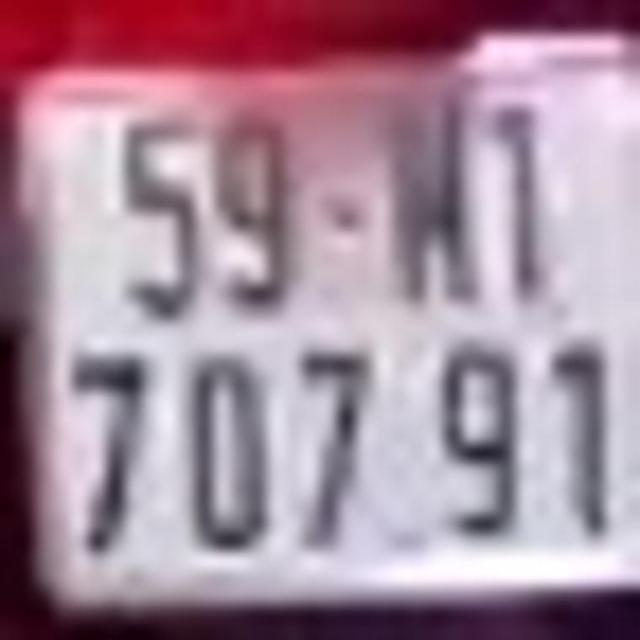0: (187, 346, 280, 561)
1: (488, 100, 564, 311), (548, 332, 616, 534)
5: (114, 111, 200, 322)
7: (59, 343, 161, 555), (290, 343, 380, 555)
9: (429, 335, 531, 544), (209, 114, 292, 313)
H: (388, 94, 480, 308)
